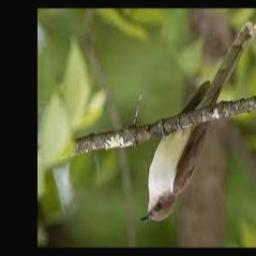Cuckoo: (139, 21, 256, 223)
